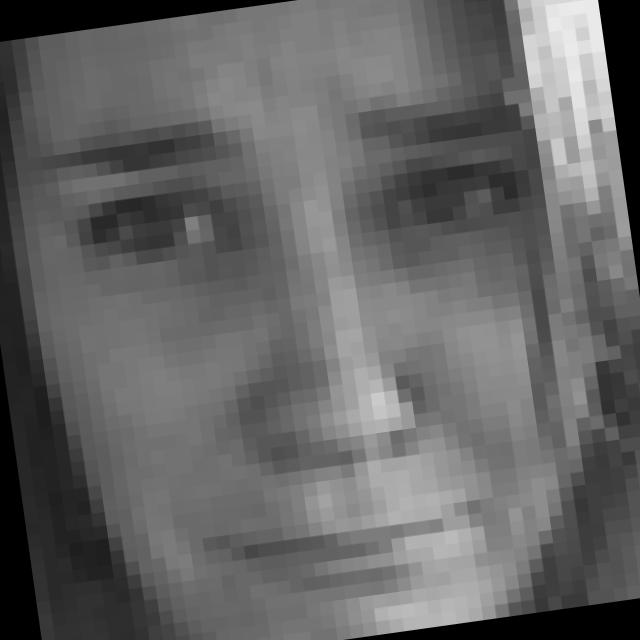sad: (45, 68, 590, 631)
